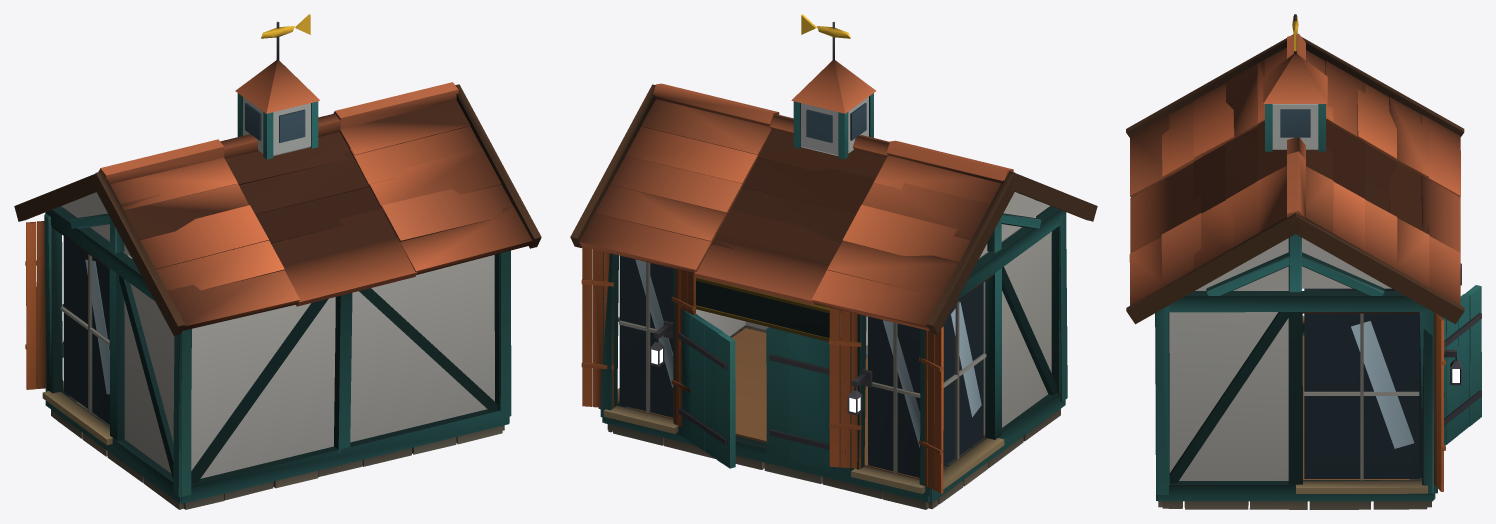
File: HD_Chandlery.glb
3 renders of one model, left to right at view 1: azimuth 30°, elevation 25°; view 2: azimuth 150°, elevation 25°; view 3: azimuth 270°, elevation 25°, orthographic. The views are drawn at different scales.
Visible parts, largest first — view 1: HD_Chandlery_3_SmoothPlastic, HD_Chandlery_2_Wood, HD_Chandlery_1_Sandstone; view 2: HD_Chandlery_3_SmoothPlastic, HD_Chandlery_2_Wood, HD_Chandlery_1_Sandstone, HD_Chandlery_4_Metal; view 3: HD_Chandlery_3_SmoothPlastic, HD_Chandlery_2_Wood, HD_Chandlery_1_Sandstone, HD_Chandlery_4_Metal.
Part boxes in pixels (box(x1,y1,x2,y2)): HD_Chandlery_3_SmoothPlastic: box(61, 60, 532, 478); HD_Chandlery_2_Wood: box(14, 84, 541, 503); HD_Chandlery_1_Sandstone: box(42, 381, 504, 509); HD_Chandlery_3_SmoothPlastic: box(579, 60, 1051, 477); HD_Chandlery_2_Wood: box(570, 84, 1097, 502); HD_Chandlery_1_Sandstone: box(598, 325, 1060, 509); HD_Chandlery_4_Metal: box(649, 14, 872, 453); HD_Chandlery_3_SmoothPlastic: box(1129, 33, 1460, 480); HD_Chandlery_2_Wood: box(1126, 34, 1481, 501); HD_Chandlery_1_Sandstone: box(1158, 315, 1431, 509); HD_Chandlery_4_Metal: box(1292, 14, 1481, 425).
Bounding box in the file's own units: 22.78 × 24.01 × 18.72.
